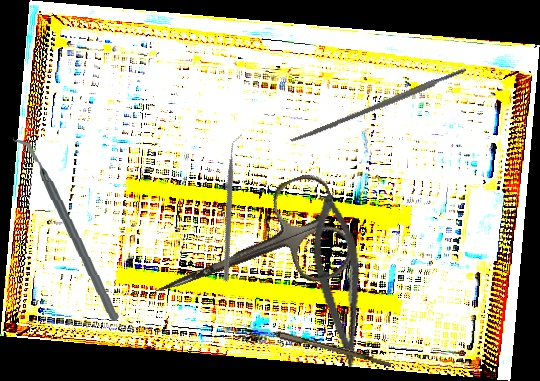Chopper: (12, 131, 121, 326), (165, 132, 302, 284)
Iris Scissors: (135, 168, 359, 339)
Micro Scissor: (301, 191, 380, 371)
Scalpel Handle: (289, 66, 468, 146)
Surgical Spoon: (236, 320, 393, 368)
